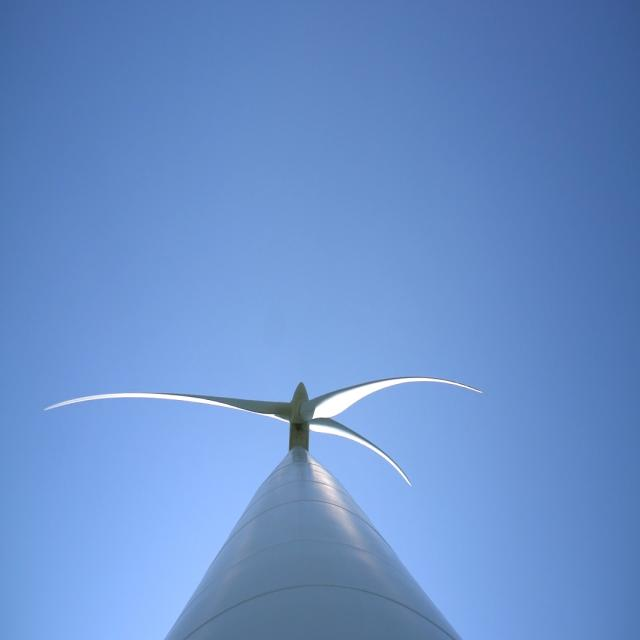blade 1: (344, 426, 413, 484)
blade 2: (32, 354, 280, 416)
blade 3: (314, 358, 565, 420)
